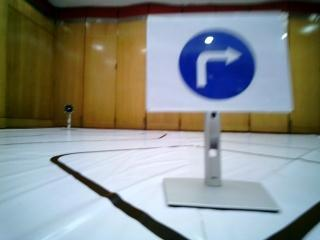right: (148, 17, 294, 111)
